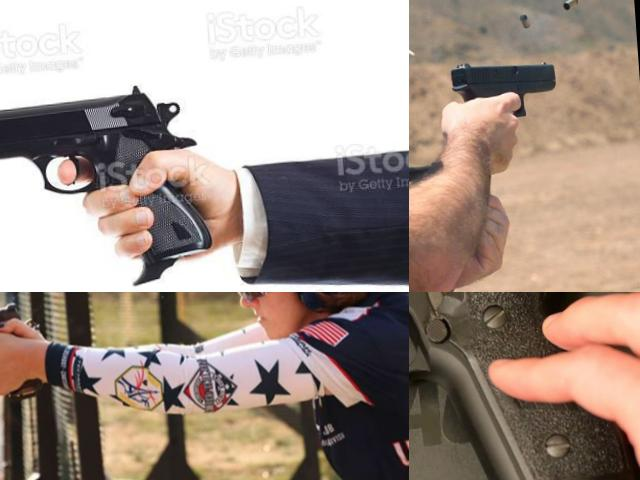handgun: (0, 77, 219, 292), (409, 292, 640, 480), (446, 55, 562, 134), (0, 298, 78, 407)
